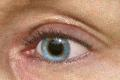eye: (42, 37, 70, 61)
